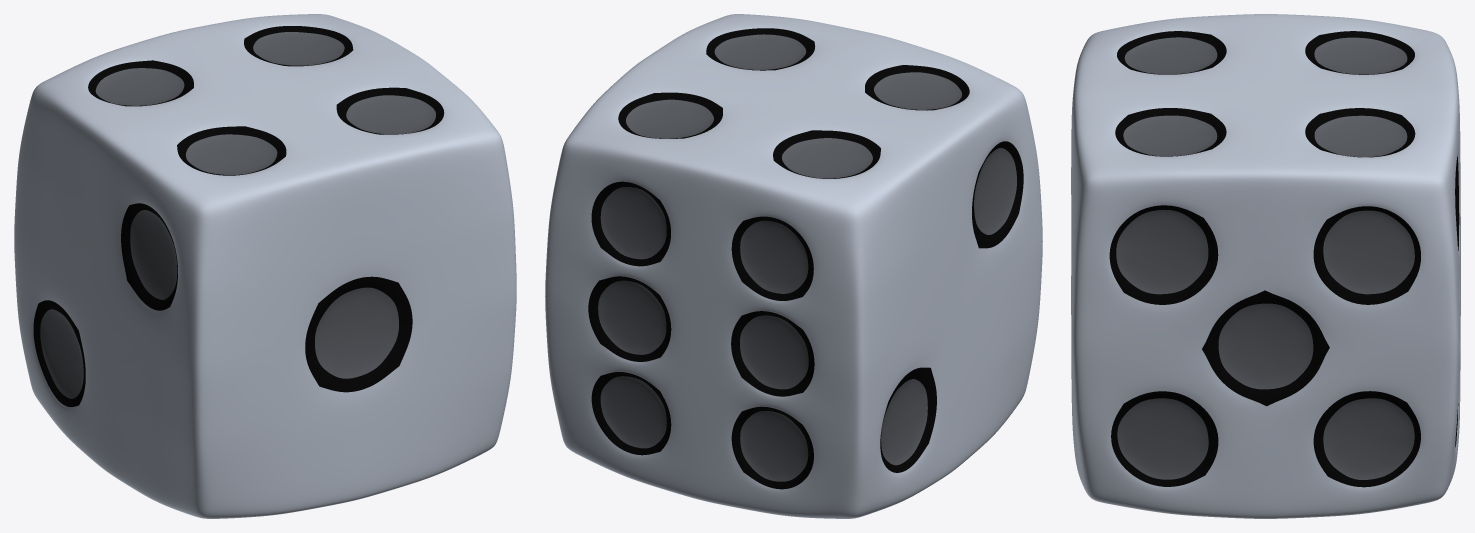
The model's file is dice.glb.
The picture shows the model from 3 angles, left to right: view 1: azimuth 30°, elevation 25°; view 2: azimuth 150°, elevation 25°; view 3: azimuth 270°, elevation 25°; orthographic projection. The views are drawn at different scales.
Visible parts, largest first — view 1: DICE; view 2: DICE; view 3: DICE.
Boxes of the visible parts, left/top/right/bottom form: DICE: left=14, top=14, right=516, bottom=518; DICE: left=545, top=14, right=1042, bottom=518; DICE: left=1071, top=14, right=1460, bottom=518.
Bounding box in the file's own units: 1.92 × 1.92 × 1.92.
Materials: 1 (1 with a texture image).
